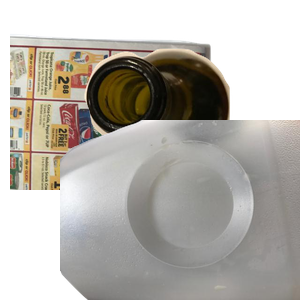glass: (82, 46, 300, 199)
paper: (10, 31, 214, 211)
plastic: (60, 120, 300, 300)
trash: (60, 142, 300, 300)
